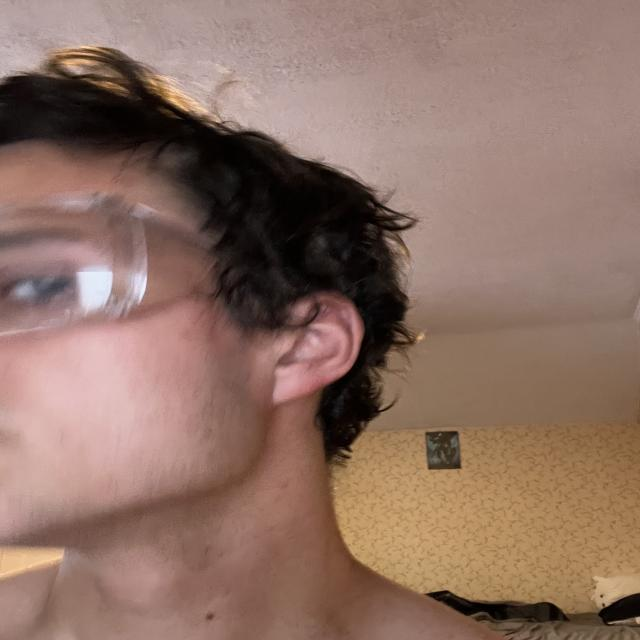Safety Glasses: (0, 183, 260, 364)
